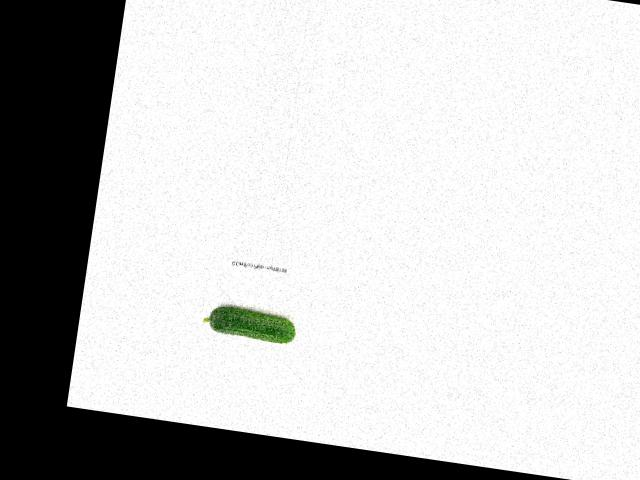cucumber: (201, 302, 299, 345)
